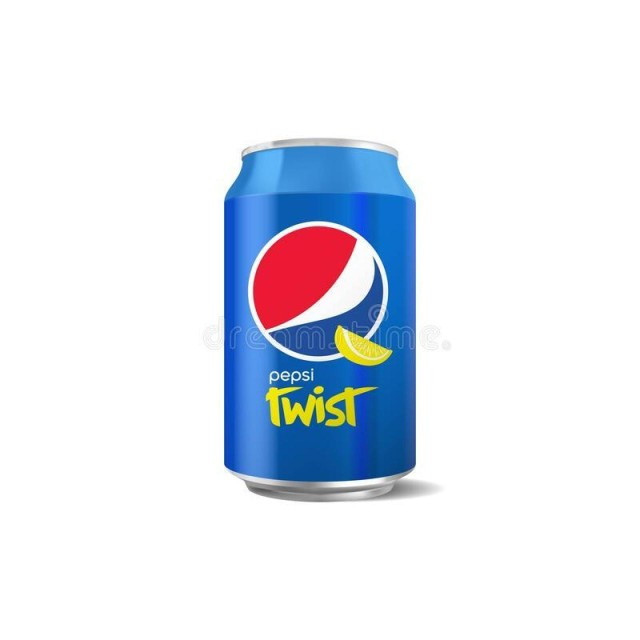pepsi: (247, 220, 396, 358)
